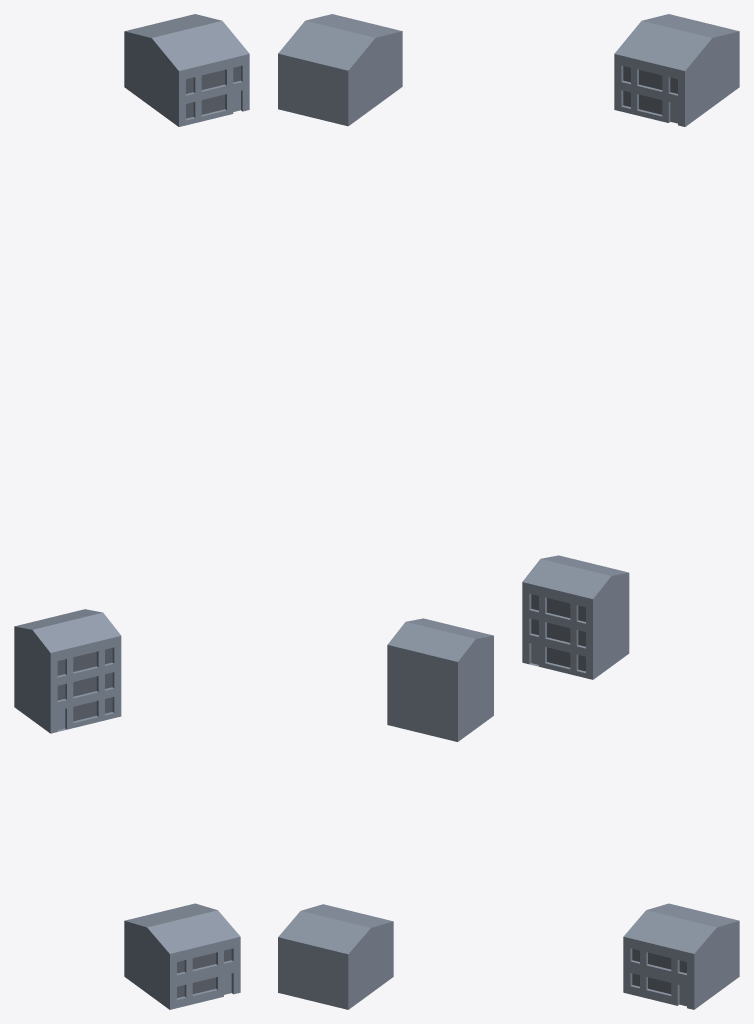
Rendered from Penceregrup2.gltf.
3 views of the same model, side by side, from view 1: azimuth 30°, elevation 25°; view 2: azimuth 150°, elevation 25°; view 3: azimuth 330°, elevation 25° (orthographic).
Visible parts, largest first — view 1: Building_077.003, Building_074.003, Building_083.003, Building_074.005, Building_077.005, Building_083.005; view 2: Building_074.003, Building_077.003, Building_083.003; view 3: Building_077.003, Building_074.003, Building_083.003, Building_074.005, Building_077.005, Building_083.005.
Part boxes in pixels (box(x1,y1,x2,y2)): Building_077.003: box(124, 14, 249, 126); Building_074.003: box(14, 609, 121, 733); Building_083.003: box(124, 903, 240, 1009); Building_074.005: box(57, 648, 112, 721); Building_077.005: box(186, 66, 240, 118); Building_083.005: box(177, 949, 231, 997); Building_074.003: box(387, 618, 493, 741); Building_077.003: box(278, 14, 402, 126); Building_083.003: box(278, 904, 393, 1009); Building_077.003: box(614, 14, 739, 126); Building_074.003: box(522, 555, 629, 679); Building_083.003: box(623, 903, 739, 1009); Building_074.005: box(531, 594, 585, 671); Building_077.005: box(623, 66, 677, 114); Building_083.005: box(632, 949, 686, 994).
Size of the model in its own units: 0.125 by 0.6326 by 0.0652.
